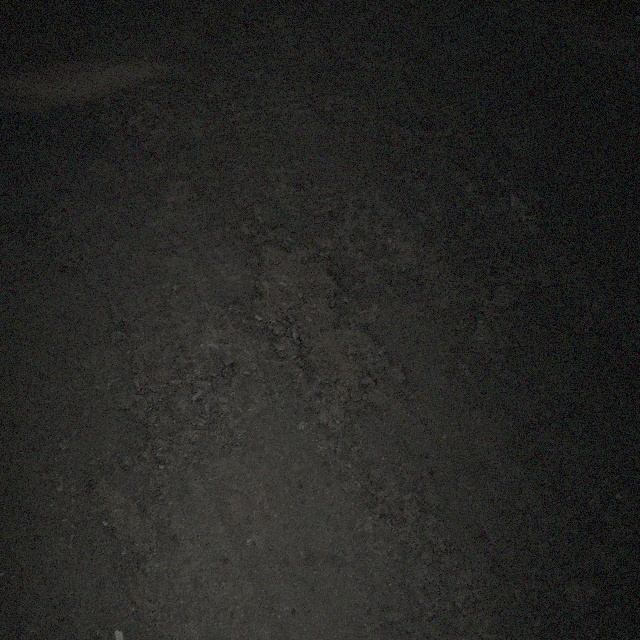pothole: (245, 233, 415, 420)
